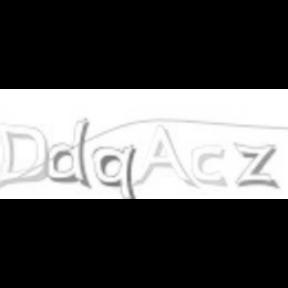A: (134, 125, 198, 193)
D: (0, 120, 50, 188)
c: (189, 143, 227, 187)
d: (48, 116, 92, 190)
q: (90, 144, 136, 200)
z: (233, 142, 279, 190)
